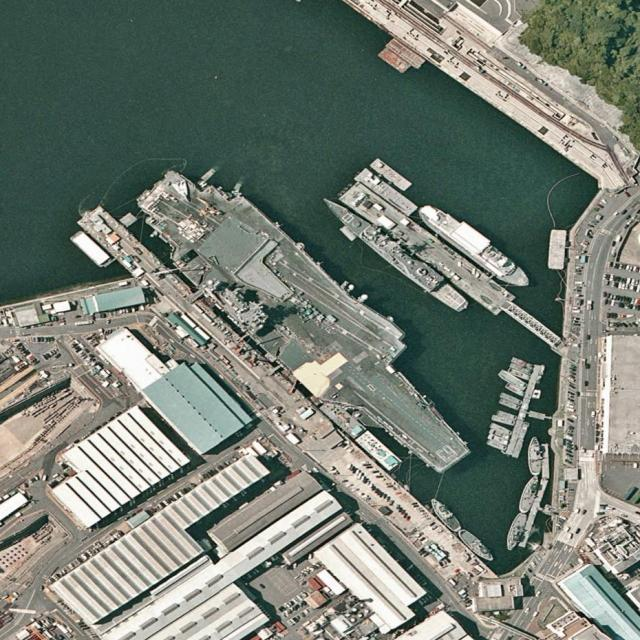Aircraft Carrier: (122, 135, 499, 501)
Dock: (339, 172, 517, 321)
Frigate: (318, 189, 472, 318)
Other Ship: (456, 526, 498, 566), (426, 494, 465, 535), (502, 511, 529, 553), (515, 473, 542, 515), (496, 369, 529, 392), (527, 434, 542, 476), (509, 362, 533, 376), (507, 367, 531, 381), (489, 422, 513, 436), (511, 356, 534, 370), (504, 383, 525, 398), (485, 438, 507, 452), (500, 392, 523, 405), (498, 398, 520, 411), (491, 415, 515, 426), (487, 433, 509, 445), (488, 428, 510, 440), (495, 411, 518, 420)
Yacht: (414, 194, 535, 297)
